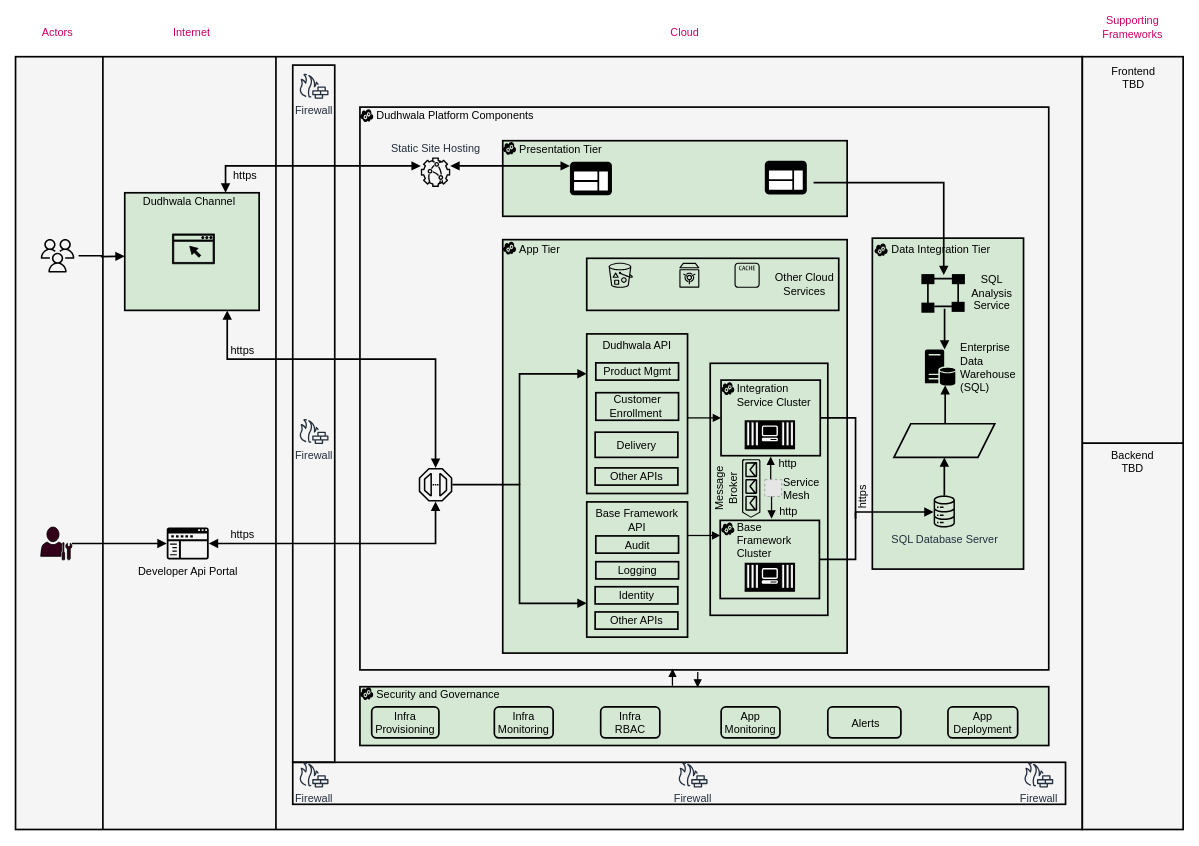
Image size: 1199x846. Some labels were removed from this diagram. Grey dashed boxes stand in for pictures. The centre of each missing label's shape, as x and y in pixels:
Api Gateway: [435,484]
BI Reporting: [785,177]
Cache: [746,274]
Data Pipeline ETL: [944,440]
Developers: [56,543]
Dudhwala Web Portal: [591,178]
File Store: [620,274]
Secret Vault: [689,274]
Users: [57,255]
Web Browser: [193,248]
